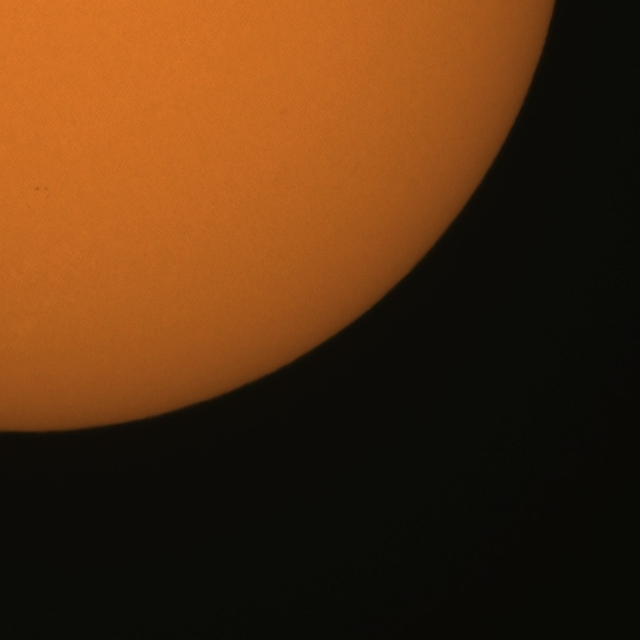sunspot: (34, 185, 49, 194)
